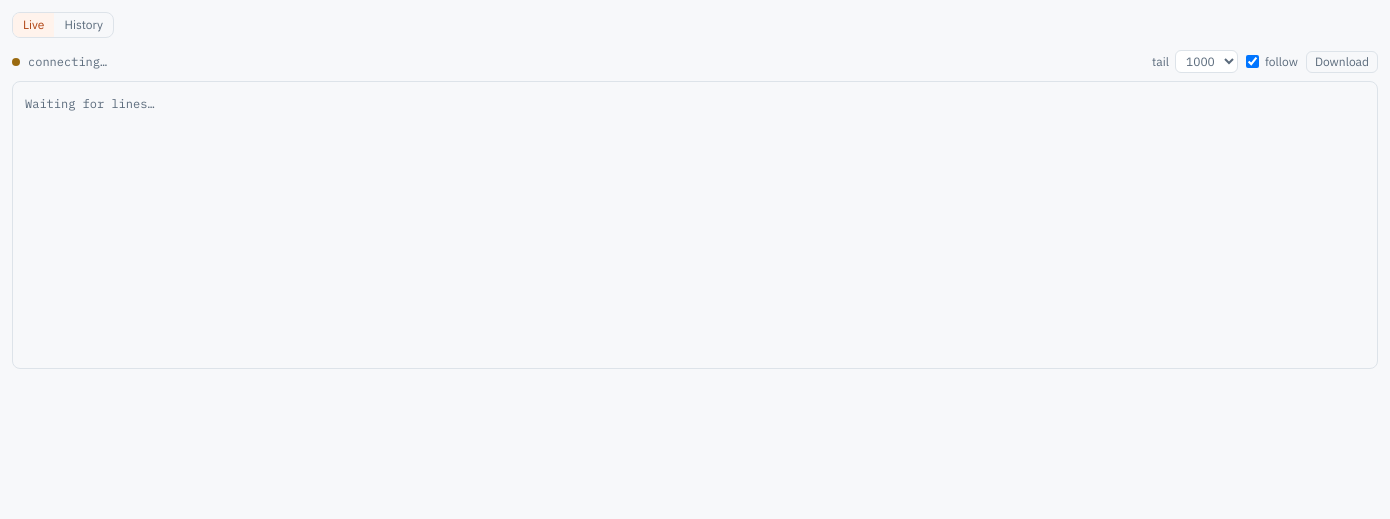
LogsPanel: «показать ещё» больше не глотает отказ молча › УСТАРЕВШИЙ отказ «показать ещё» не всплывает поверх свежей загрузки
What coordinates should you click on to do the following:
click the button "History"
I would click on:
 (84, 25)
Its box is [54,13,113,37].
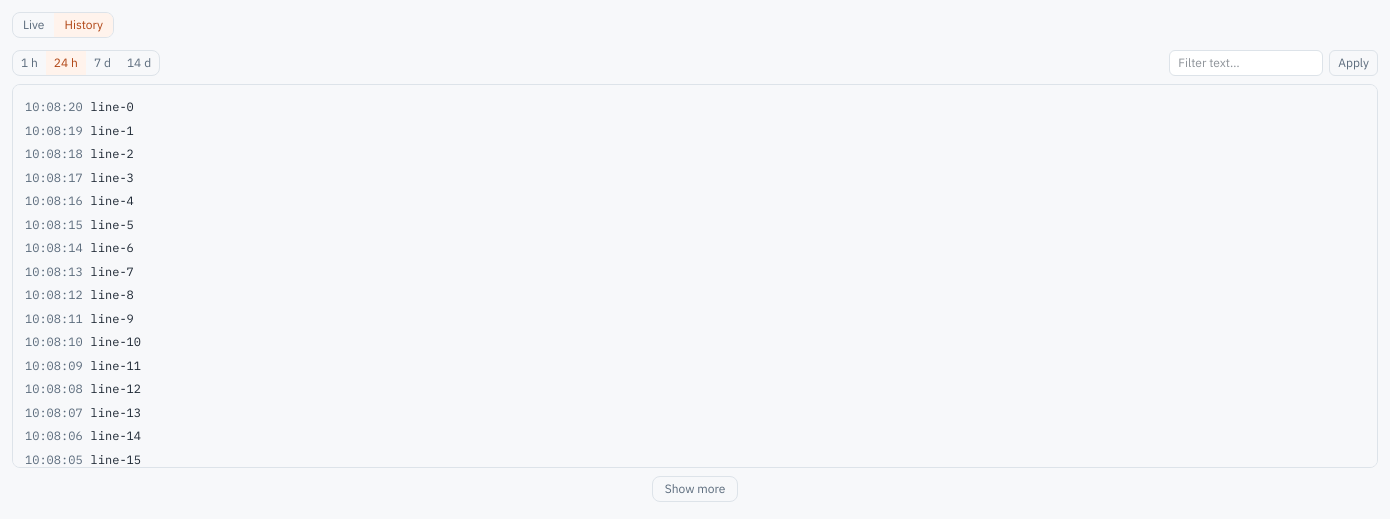
Now the text "line-0" is shown, box [91,99,134,114]
What coordinates should you click on to do the following:
click the button "Show more"
I would click on:
 (695, 489)
Its box is [652,476,738,502].
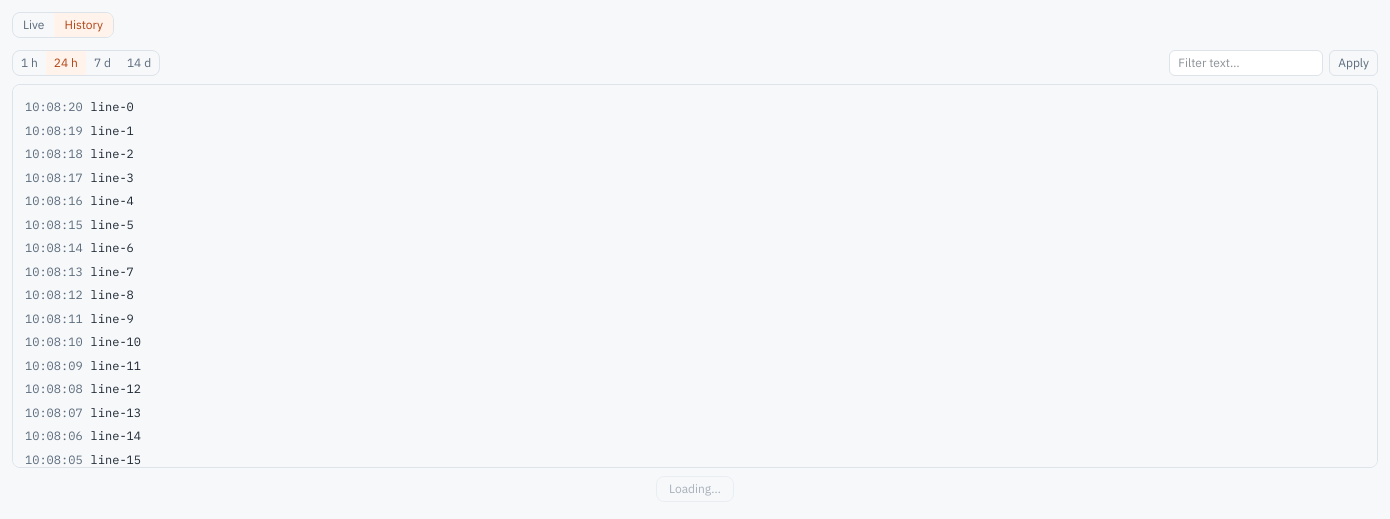
Диапазон меняется, пока «показать ещё» ещё в полёте.
What coordinates should you click on to do the following:
click the button "1 h"
I would click on:
 (29, 63)
Its box is [13,51,46,75].
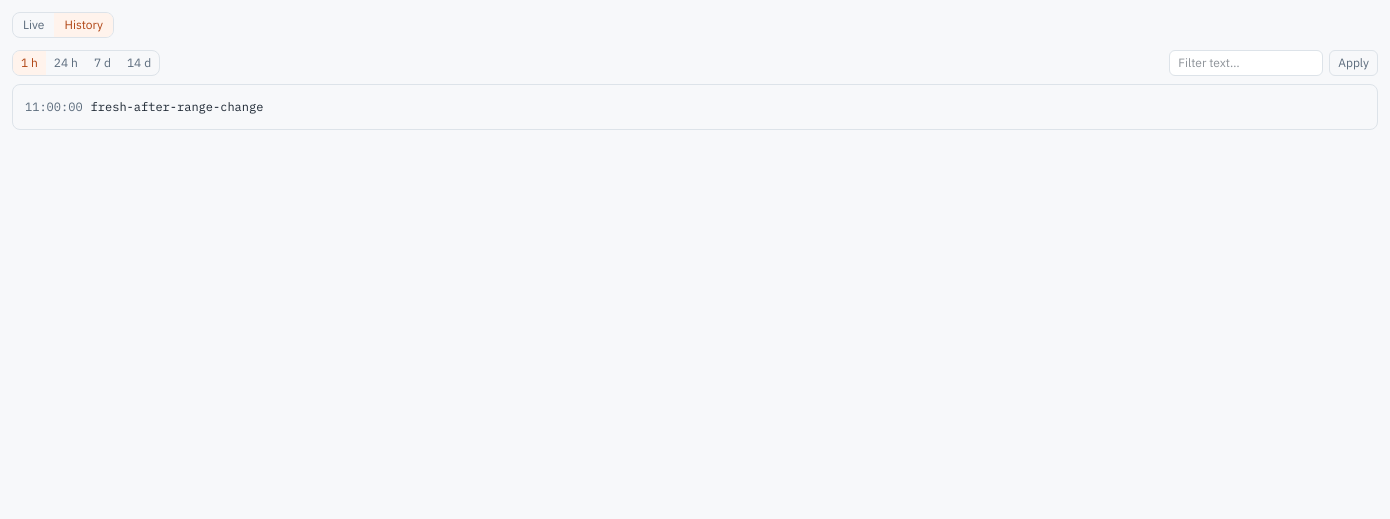
Now the text "fresh-after-range-change" is shown, box [91,99,263,114]
